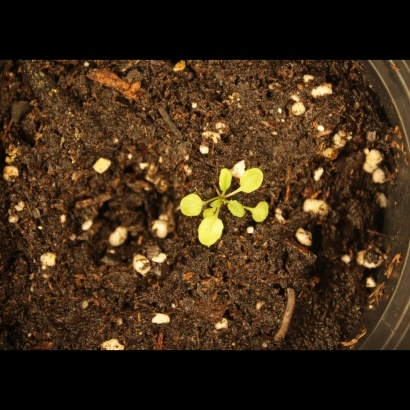leaf: (198, 215, 227, 255), (175, 189, 207, 218), (236, 165, 268, 192), (249, 198, 275, 226), (213, 166, 236, 195), (225, 197, 248, 220)
